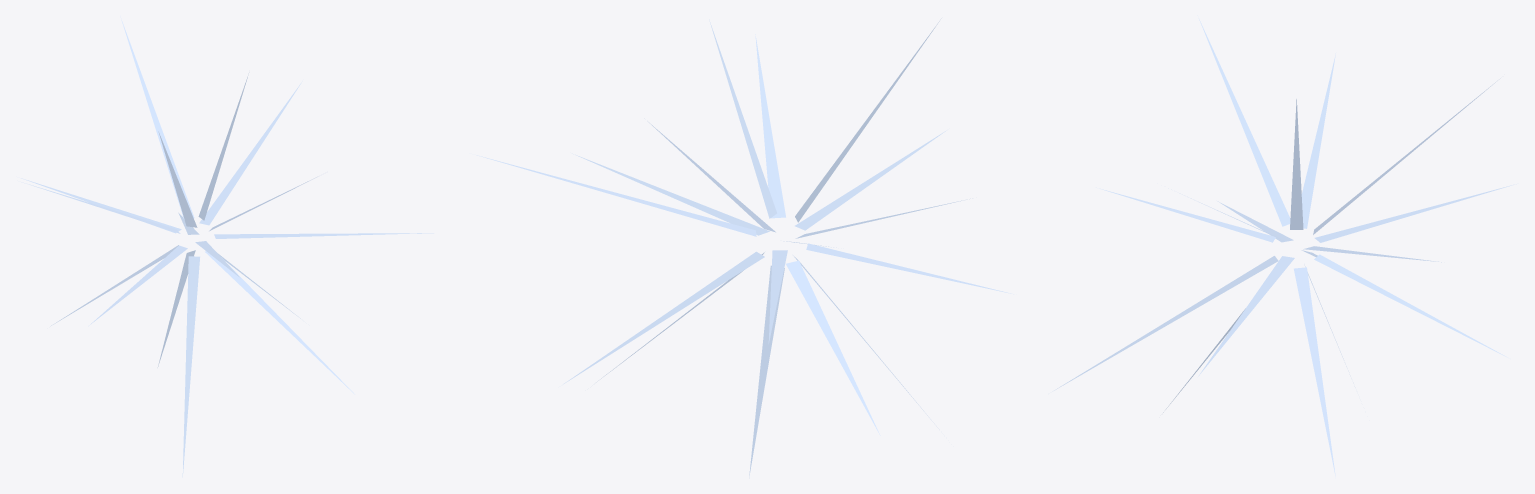
The model's file is black-rain-burst.glb.
3 views of the same model, side by side, from view 1: azimuth 30°, elevation 25°; view 2: azimuth 150°, elevation 25°; view 3: azimuth 270°, elevation 25° (orthographic). The views are drawn at different scales.
Parts seen in each view (by area): view 1: 黒雨・自作3D・burst; view 2: 黒雨・自作3D・burst; view 3: 黒雨・自作3D・burst.
Boxes of the visible parts, x1,y1,x2,y2 form: 黒雨・自作3D・burst: (21, 16, 433, 477); 黒雨・自作3D・burst: (476, 18, 1013, 478); 黒雨・自作3D・burst: (1052, 15, 1516, 476).
Bounding box in the file's own units: 2.56 × 2.27 × 2.44.
